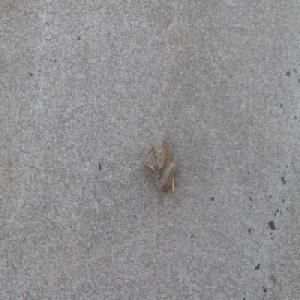Rock: (140, 132, 176, 195)
